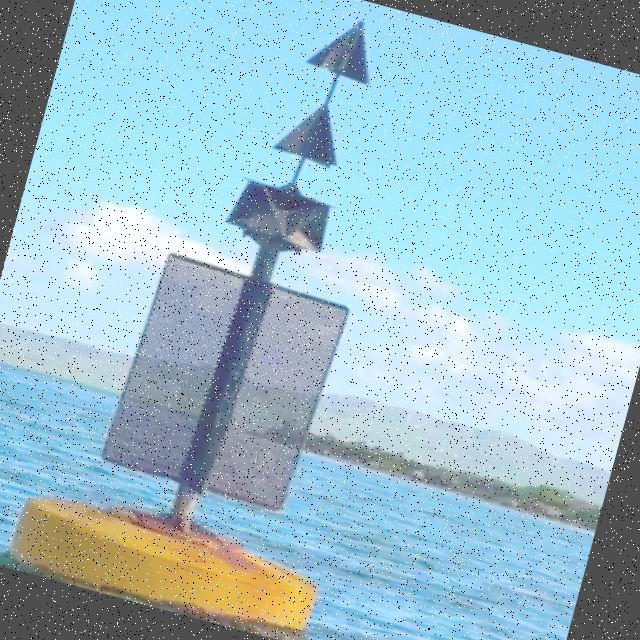marque: (1, 1, 474, 640)
